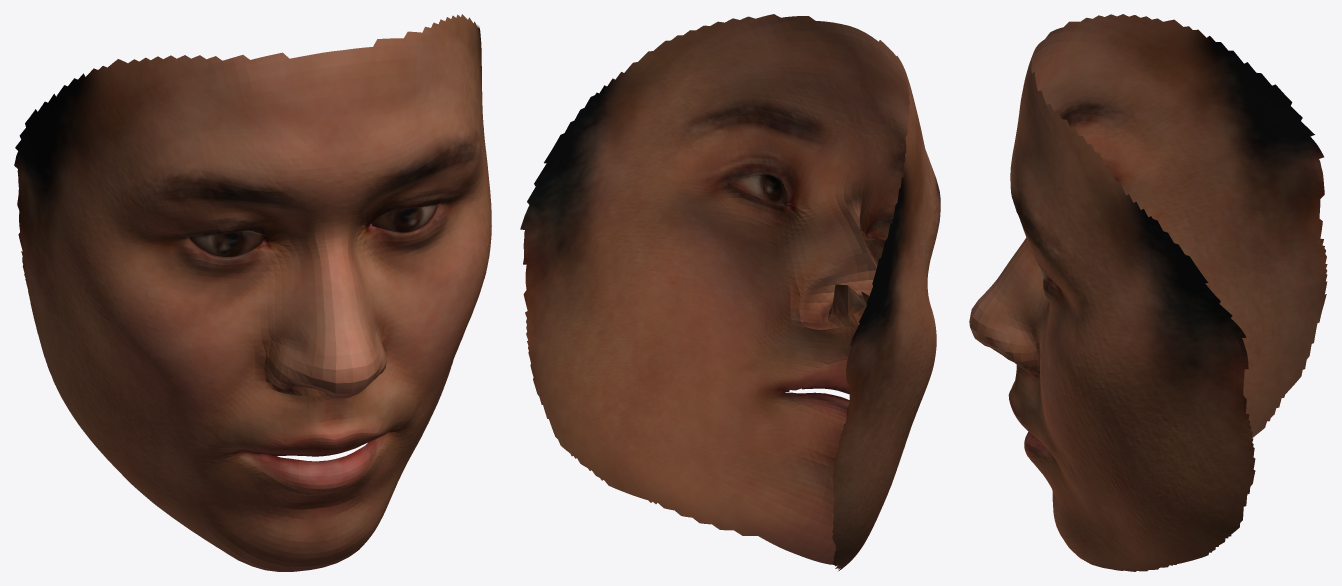
The model's file is generated.photos_v3_0002733_mesh.obj.
3 renders of one model, left to right at view 1: azimuth 30°, elevation 25°; view 2: azimuth 150°, elevation 25°; view 3: azimuth 270°, elevation 25°, orthographic. The views are drawn at different scales.
Bounding box in the file's own units: 1.38 × 1.77 × 1.15.
